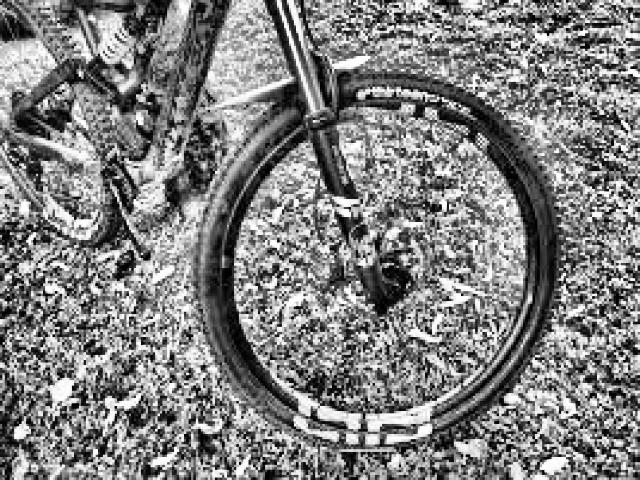cranks_set: (93, 159, 157, 262)
pedal: (100, 243, 142, 280)
wheel: (187, 64, 568, 463), (0, 0, 124, 250)
